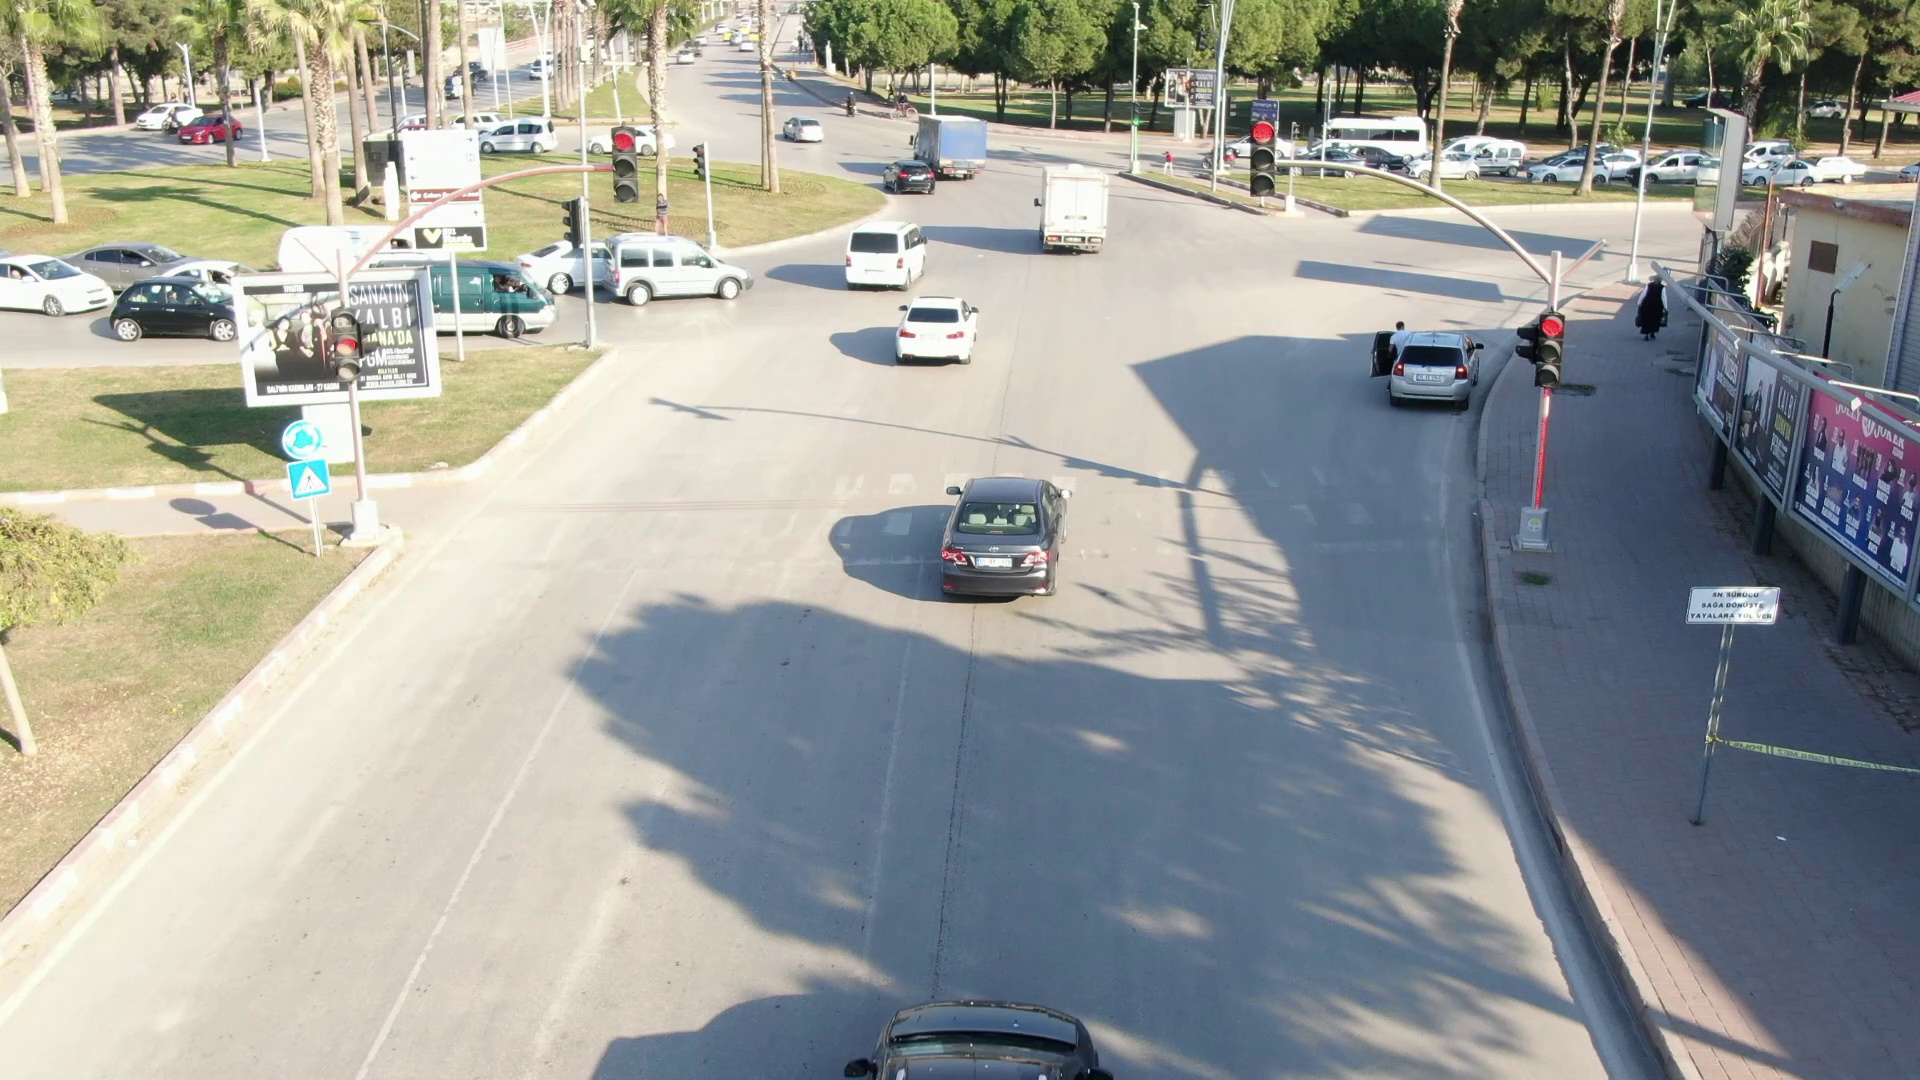car: (929, 471, 1084, 616), (602, 228, 760, 308), (432, 255, 572, 341), (1022, 160, 1126, 266), (1385, 332, 1495, 403), (839, 214, 933, 296), (887, 292, 984, 366), (875, 158, 940, 201)
person: (1623, 267, 1679, 349)
